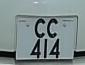1: (42, 39, 50, 59)
4: (28, 39, 43, 60), (48, 39, 62, 59)
C: (45, 17, 61, 41), (32, 17, 47, 42)
